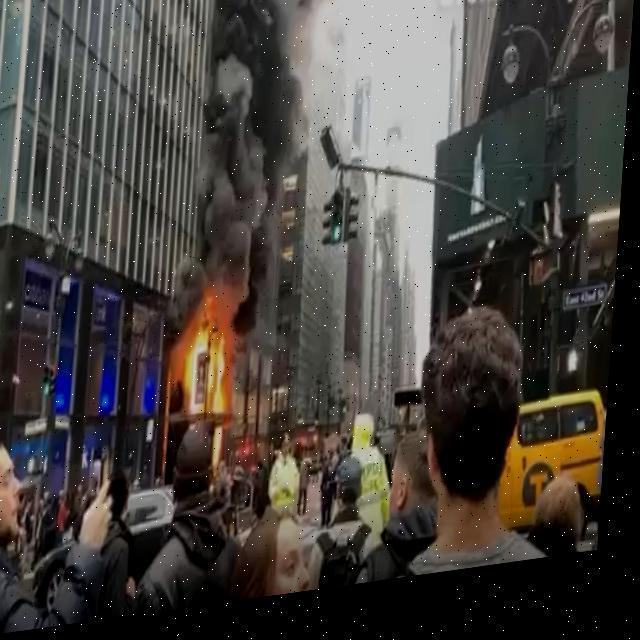Fire: (176, 298, 238, 434)
